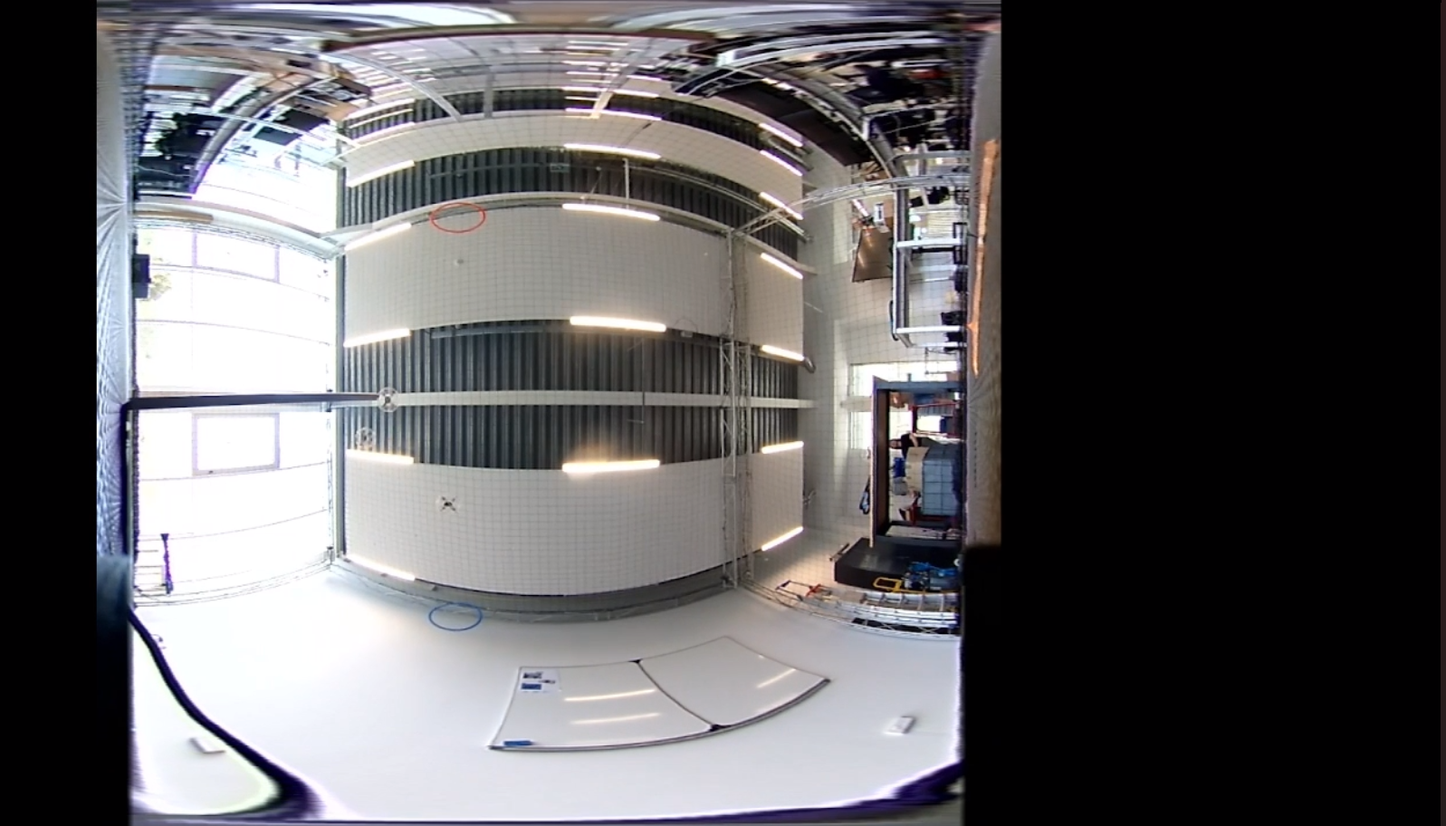Drone: (434, 493, 462, 517), (377, 388, 400, 413), (354, 427, 376, 449)
